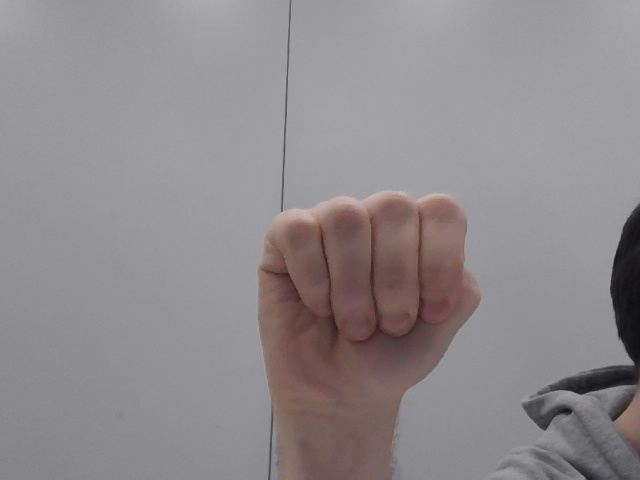down: (236, 180, 518, 417)
